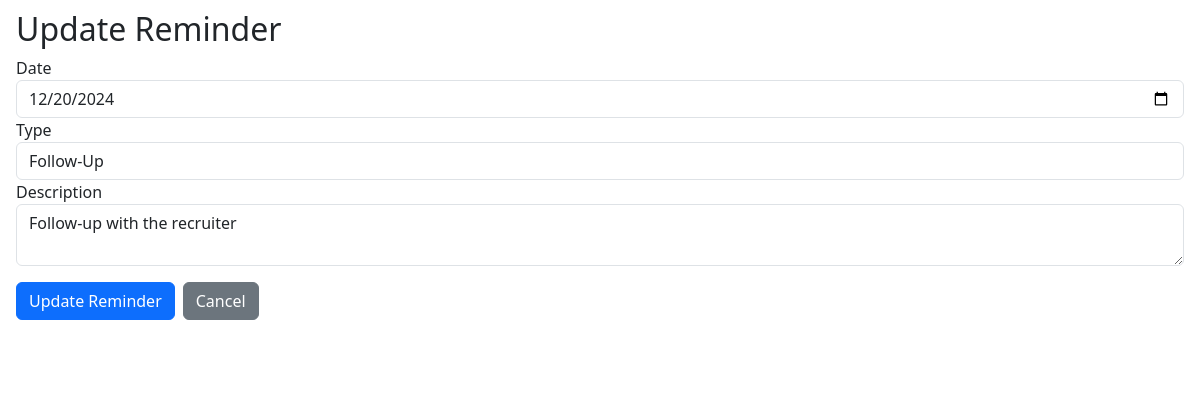
Test: ReminderUpdateForm › shows an error message if the update fails
The width and height of the screenshot is (1201, 411).
Check: the date field showing "2024-12-20" is shown, box left=16, top=80, right=1184, bottom=118
Click the button "Update Reminder". click: coordinates (95, 301)
box: left=16, top=282, right=175, bottom=320
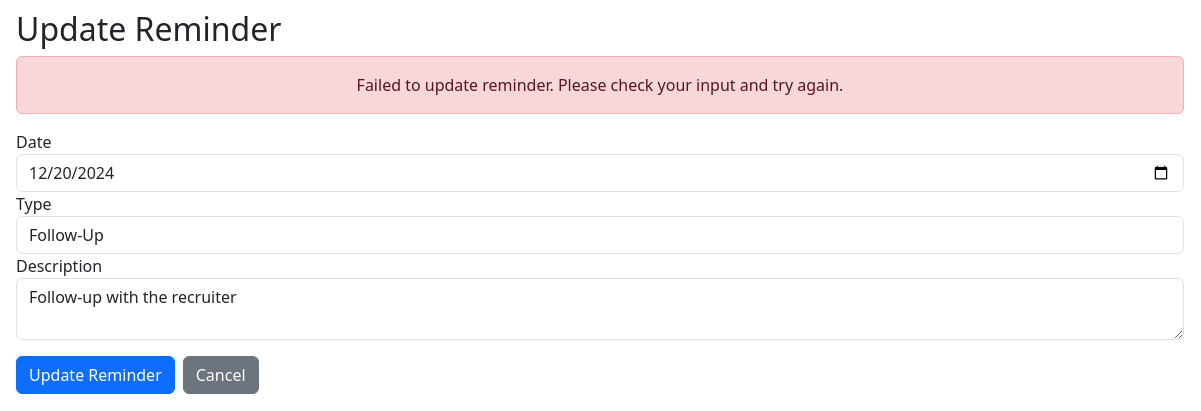
Check: the text "Failed to update reminder" is shown, box left=357, top=74, right=843, bottom=96
